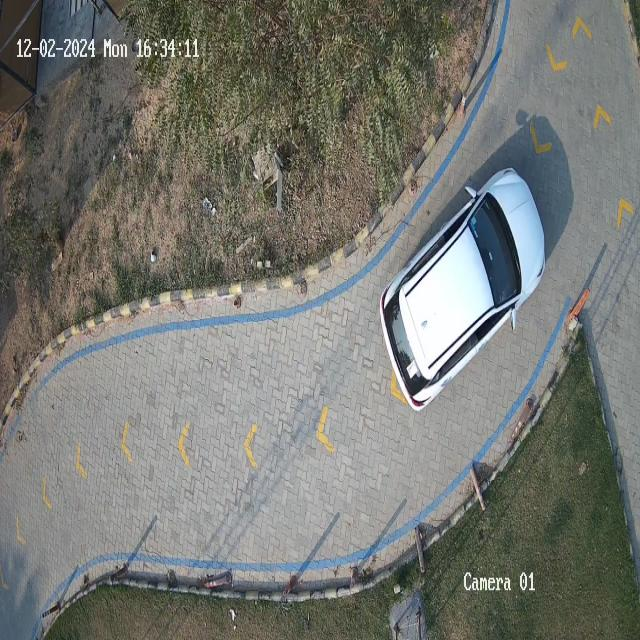car: (381, 169, 545, 410)
